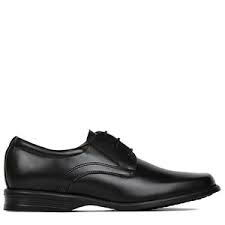Formal: (1, 128, 222, 214)
